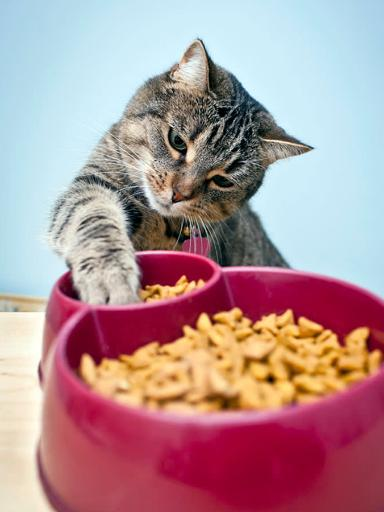cat_eating: (48, 40, 312, 303)
